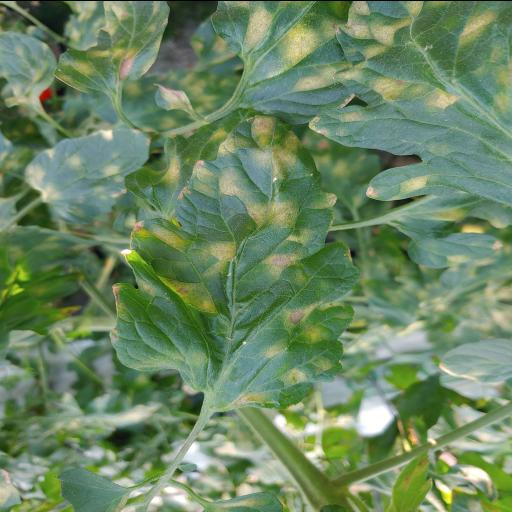Leaf Mold: (107, 114, 363, 408), (307, 0, 512, 207), (52, 0, 170, 89)
